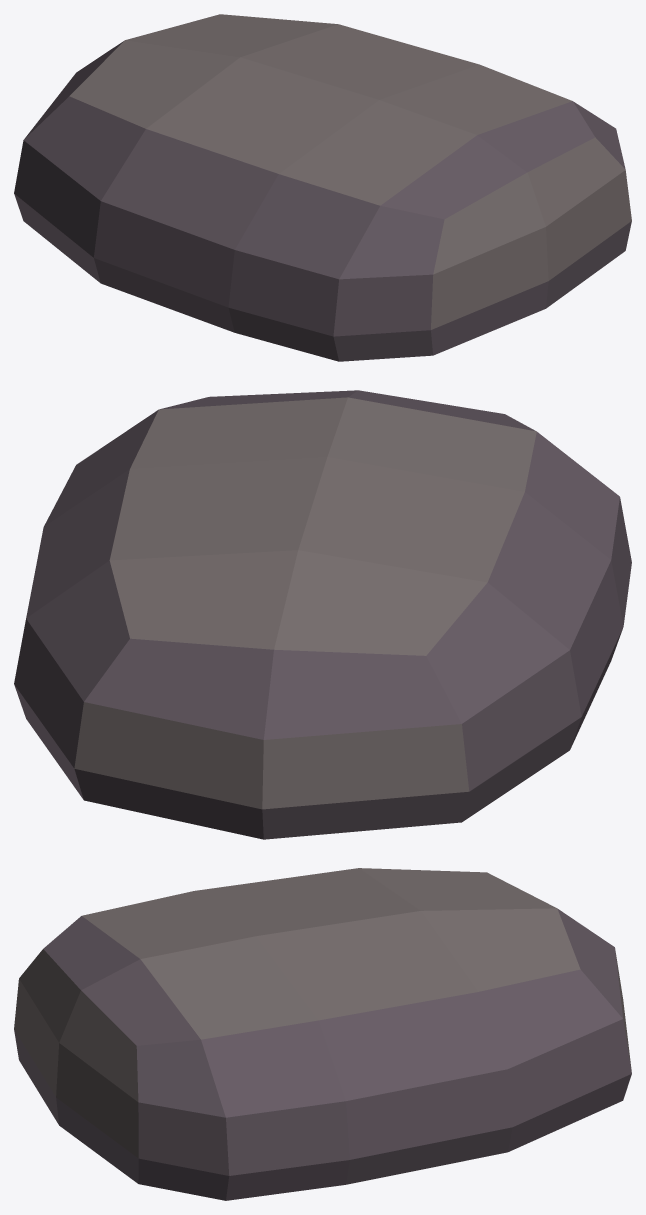
Rendered from Mouse.fbx.
The picture shows the model from 3 angles, top to bottom: view 1: azimuth 30°, elevation 25°; view 2: azimuth 150°, elevation 25°; view 3: azimuth 270°, elevation 25°; orthographic projection. The views are drawn at different scales.
Parts seen in each view (by area): view 1: Mouse; view 2: Mouse; view 3: Mouse.
Boxes of the visible parts, x1,y1,x2,y2 form: Mouse: [14, 14, 631, 361]; Mouse: [14, 390, 631, 839]; Mouse: [14, 868, 631, 1200].
Bounding box in the file's own units: 16.44 × 5.46 × 18.28.
